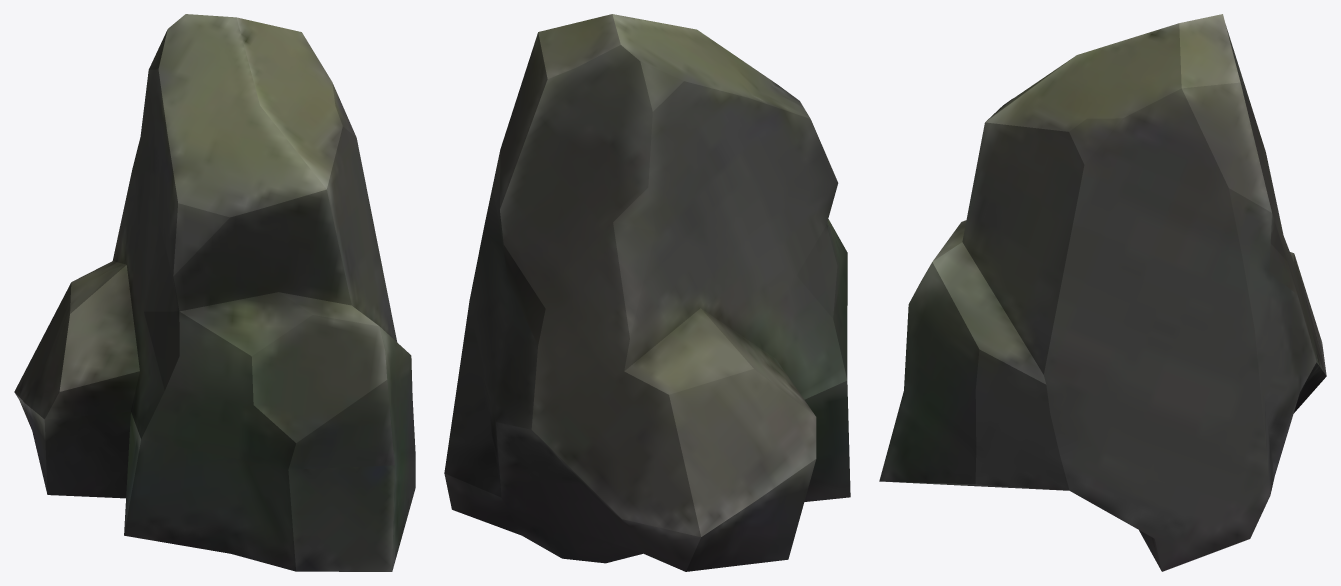
The model's file is rock_1.glb.
3 renders of one model, left to right at view 1: azimuth 30°, elevation 25°; view 2: azimuth 150°, elevation 25°; view 3: azimuth 270°, elevation 25°, orthographic. The views are drawn at different scales.
Visible parts, largest first — view 1: Rock_1; view 2: Rock_1; view 3: Rock_1.
Part boxes in pixels (bbox=[...]): Rock_1: bbox=[14, 14, 415, 571]; Rock_1: bbox=[444, 14, 850, 571]; Rock_1: bbox=[879, 14, 1326, 571].
Size of the model in its own units: 0.7107 by 1.08 by 0.8874.
1 material, 1 textured.
